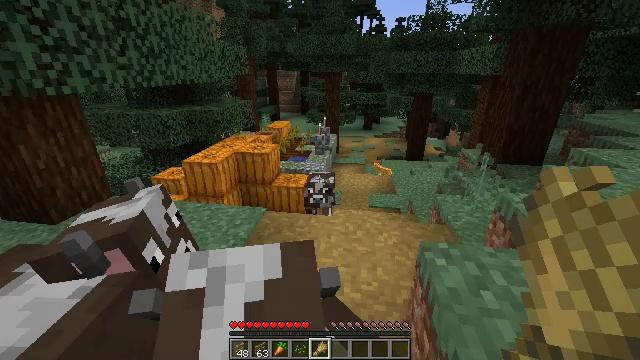cow: (0, 184, 199, 360), (128, 239, 342, 360), (306, 173, 335, 215)
